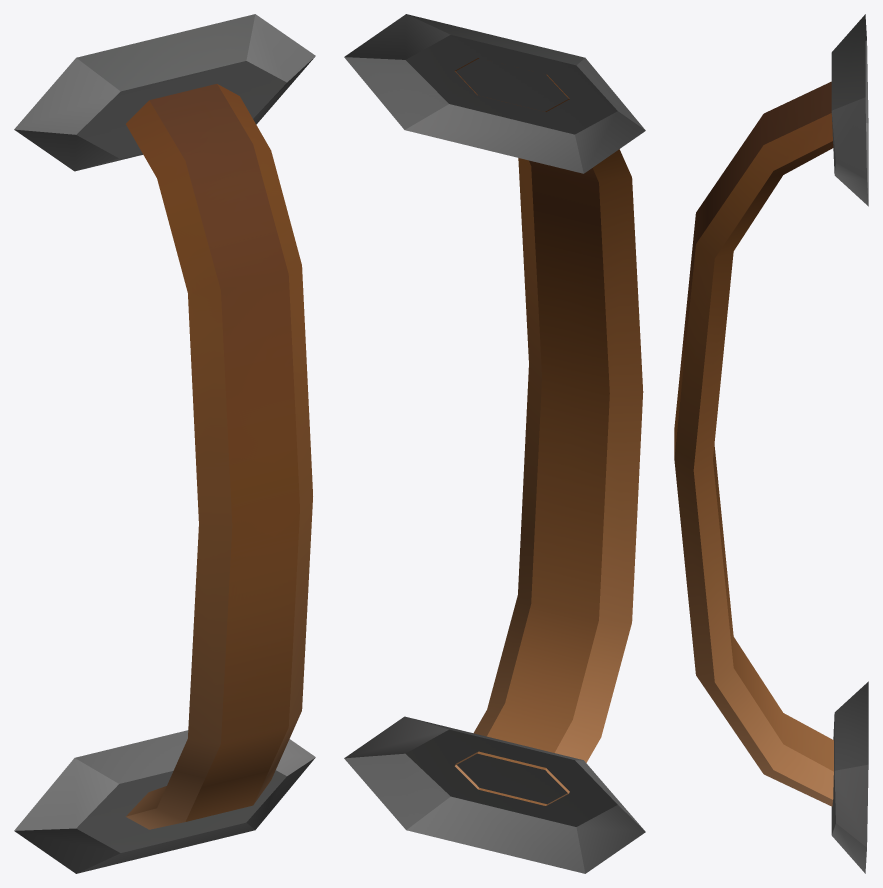
Rendered from Shield1hHandle_01.fbx.
3 views of the same model, side by side, from view 1: azimuth 30°, elevation 25°; view 2: azimuth 150°, elevation 25°; view 3: azimuth 270°, elevation 25° (orthographic). The views are drawn at different scales.
Visible parts, largest first — view 1: Shield1hHandle_01; view 2: Shield1hHandle_01; view 3: Shield1hHandle_01.
Boxes of the visible parts, x1,y1,x2,y2 form: Shield1hHandle_01: [14, 14, 315, 873]; Shield1hHandle_01: [344, 14, 645, 873]; Shield1hHandle_01: [674, 14, 868, 873].
Bounding box in the file's own units: 12.41 × 32.06 × 7.26.
